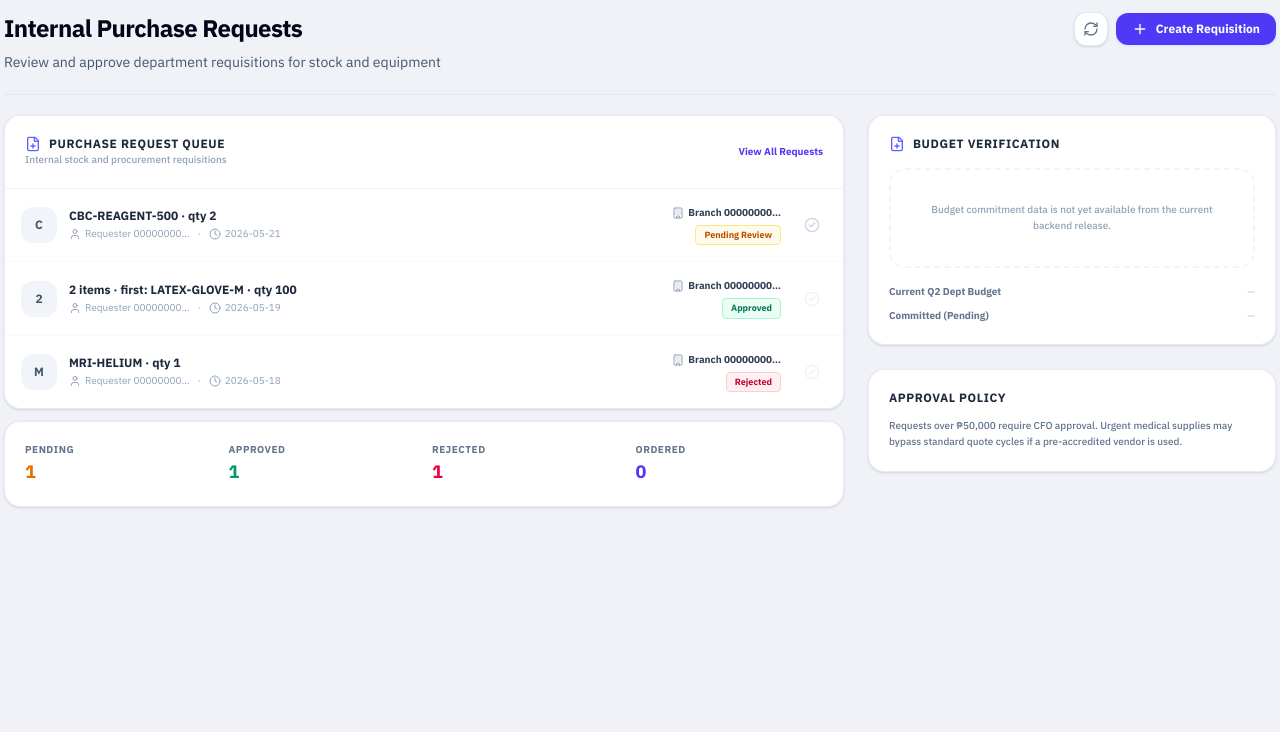
Test: PurchaseRequestsPage — live backend wiring › surfaces inline approve error (no alert) when PATCH fails
What coordinates should you click on to do the following:
click the button with test id "purchase-request-approve-pr-001"
I would click on:
 (812, 225)
Its box is [797,210,827,240].
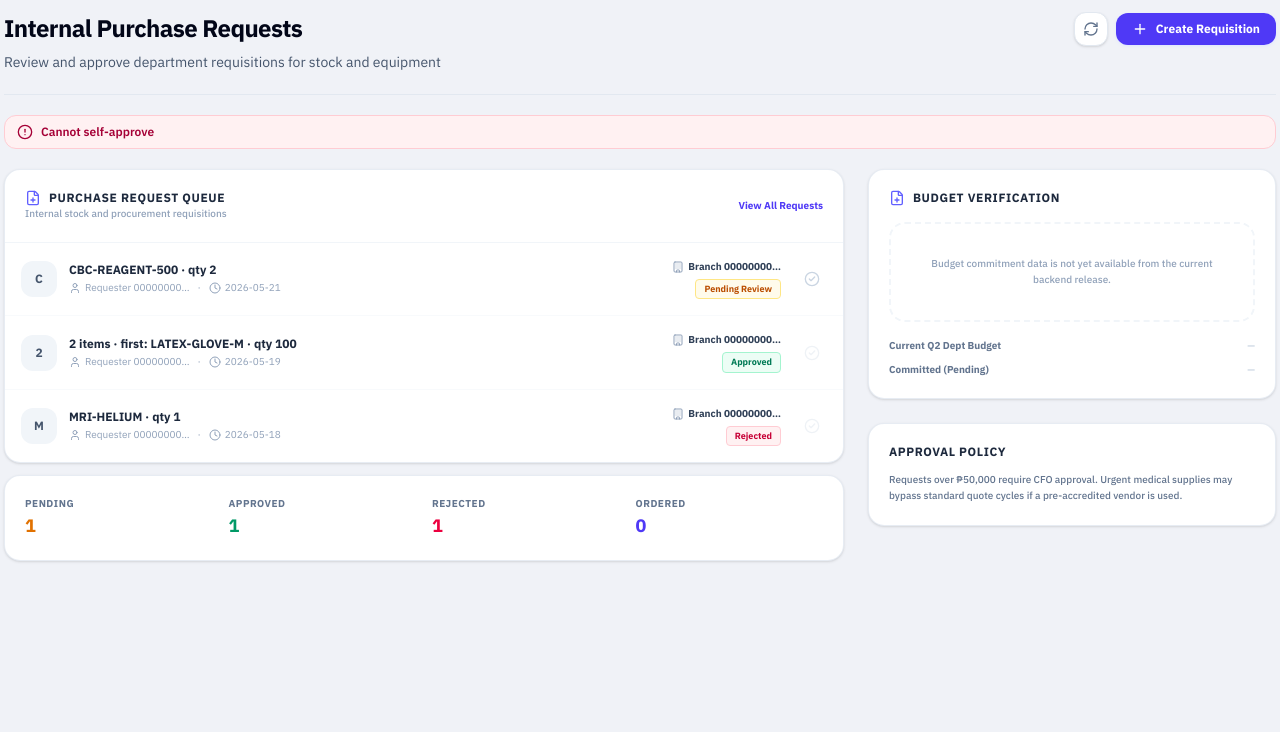
Check: the message "Cannot self-approve" is shown, box [4,115,1276,149]
